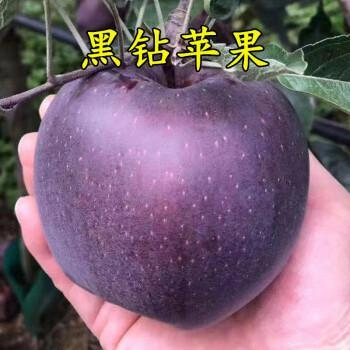apple: (35, 42, 314, 326)
